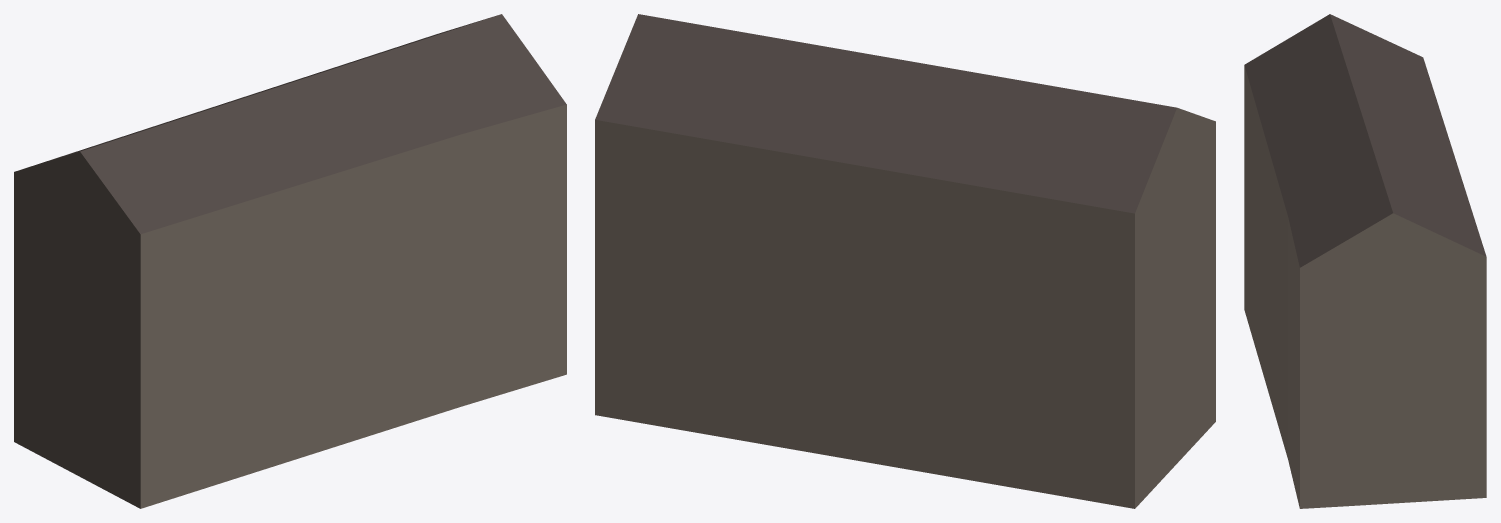
3 renders of one model, left to right at view 1: azimuth 30°, elevation 25°; view 2: azimuth 150°, elevation 25°; view 3: azimuth 270°, elevation 25°, orthographic. The views are drawn at different scales.
Visible parts, largest first — view 1: HP-w1512965848; view 2: HP-w1512965848; view 3: HP-w1512965848.
Part boxes in pixels (<box>): HP-w1512965848: <box>14,14,566,508</box>; HP-w1512965848: <box>595,14,1215,508</box>; HP-w1512965848: <box>1244,14,1486,508</box>.
Size of the model in its own units: 11.24 by 7.23 by 5.47.
